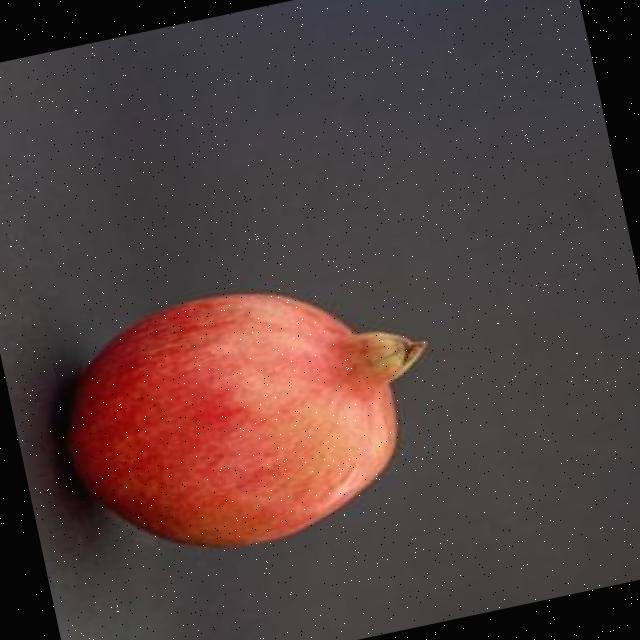Pomegranate: (38, 251, 461, 580)
